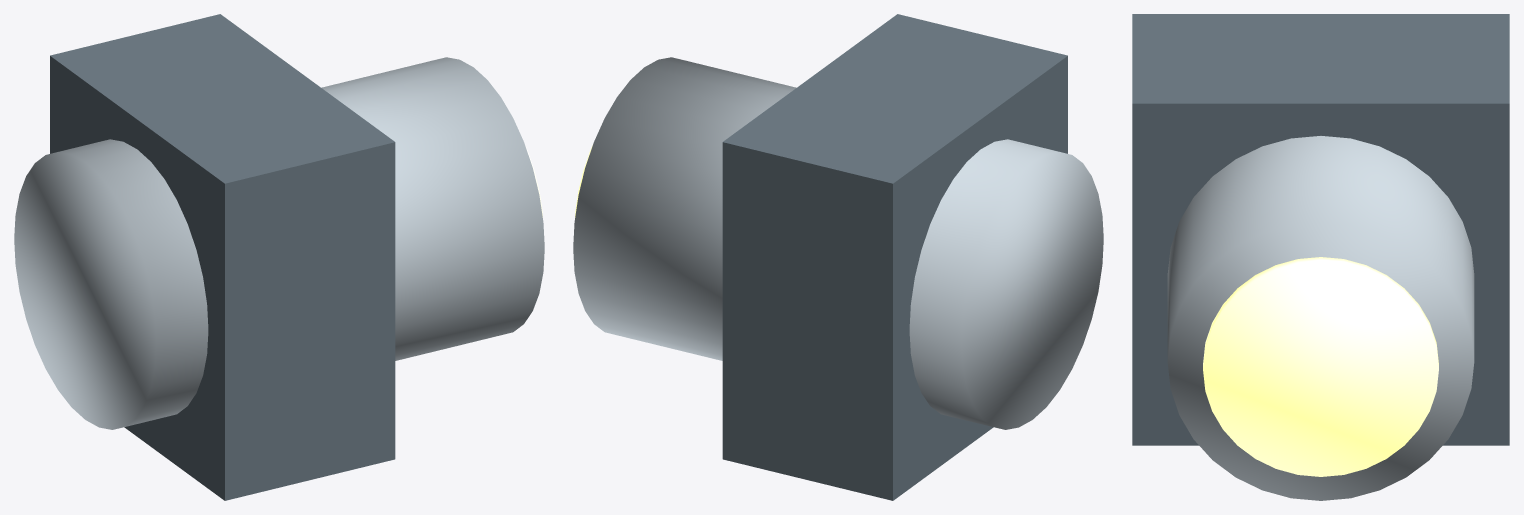
File: source-parallel.glb
The picture shows the model from 3 angles, left to right: view 1: azimuth 30°, elevation 25°; view 2: azimuth 150°, elevation 25°; view 3: azimuth 270°, elevation 25°; orthographic projection. The views are drawn at different scales.
Visible parts, largest first — view 1: collimator shade, lamp barrel; view 2: collimator shade, lamp barrel; view 3: collimator shade, lamp barrel, emitter.
Part boxes in pixels (x1,y1,x2,y2): collimator shade: (50, 14, 395, 500); lamp barrel: (14, 57, 544, 429); collimator shade: (722, 14, 1067, 500); lamp barrel: (573, 57, 1103, 429); collimator shade: (1132, 14, 1509, 445); lamp barrel: (1167, 136, 1474, 500); emitter: (1203, 257, 1438, 476).
Bounding box in the file's own units: 0.8525 × 0.64 × 0.64.
